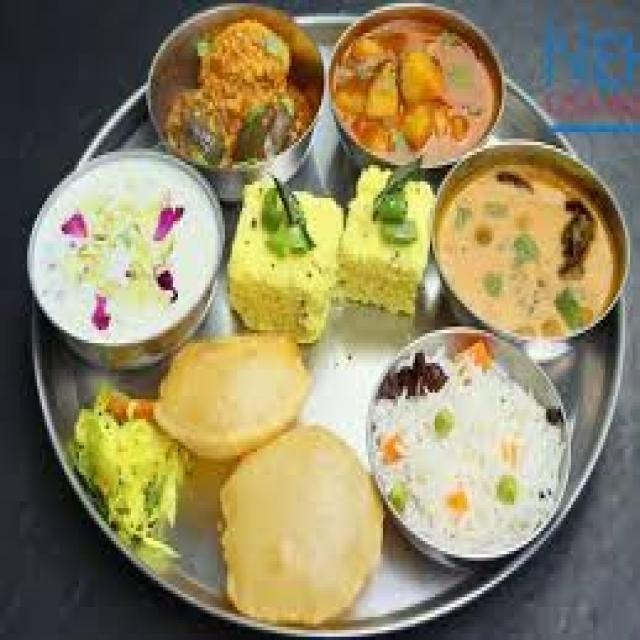curd: (31, 145, 231, 369)
dal: (438, 161, 610, 343)
rice: (376, 361, 575, 566)
